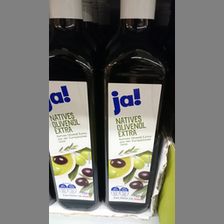oil: (98, 1, 166, 213), (49, 1, 100, 211)
